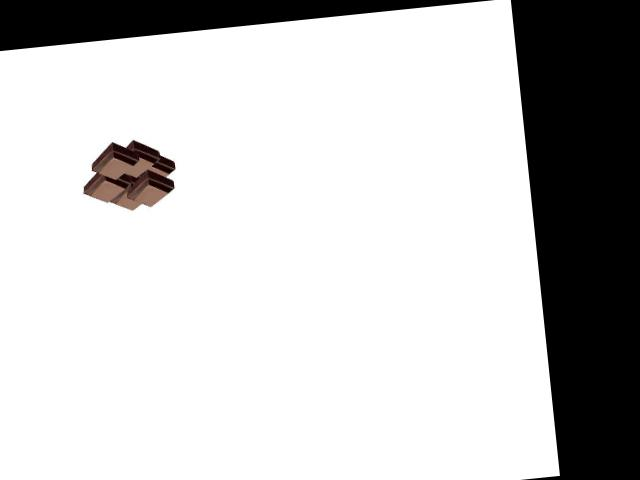chocolate: (80, 138, 182, 217)
